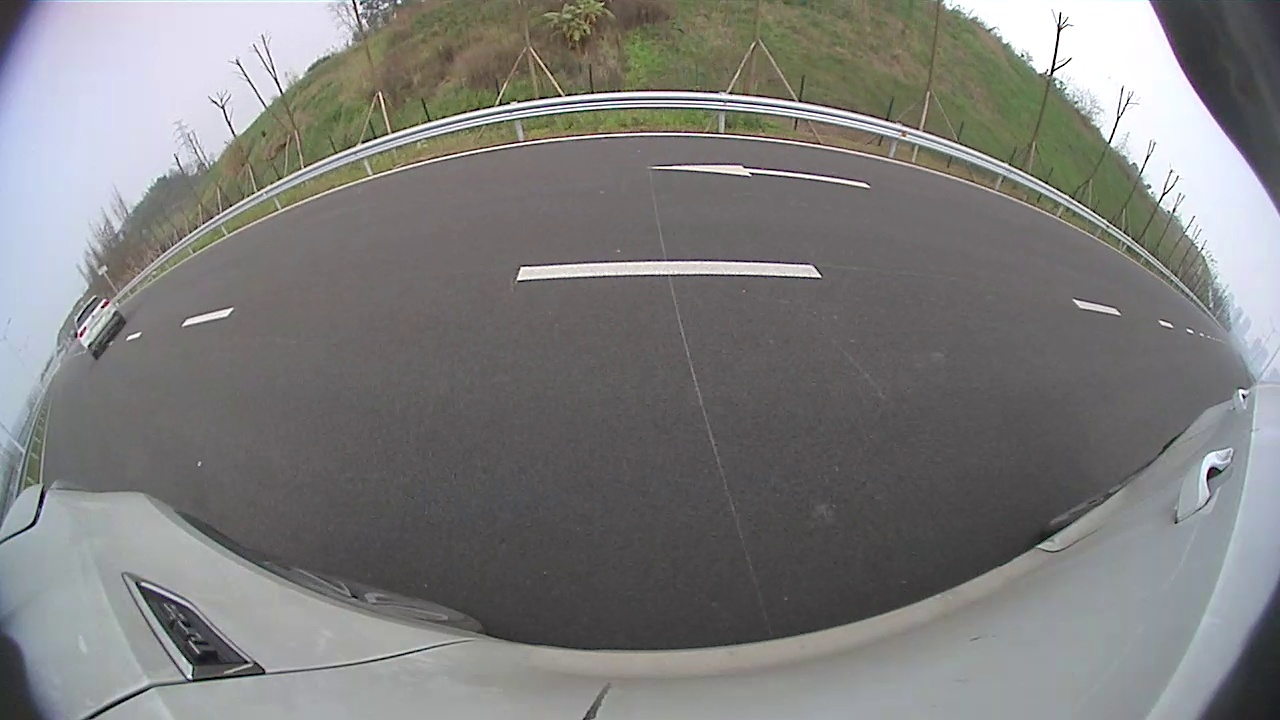car: (701, 148, 776, 197)
front: (701, 173, 710, 189)
rear: (717, 173, 727, 194)
